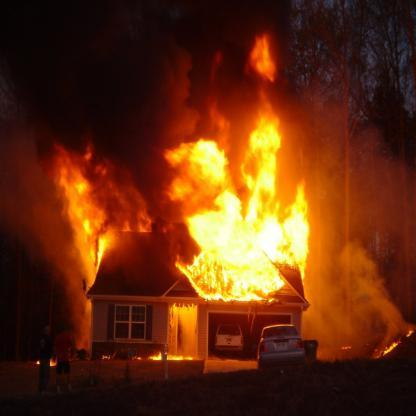fire: (43, 40, 404, 372)
